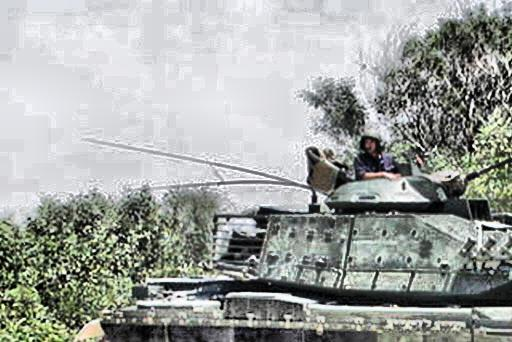tanks: (95, 149, 512, 342)
